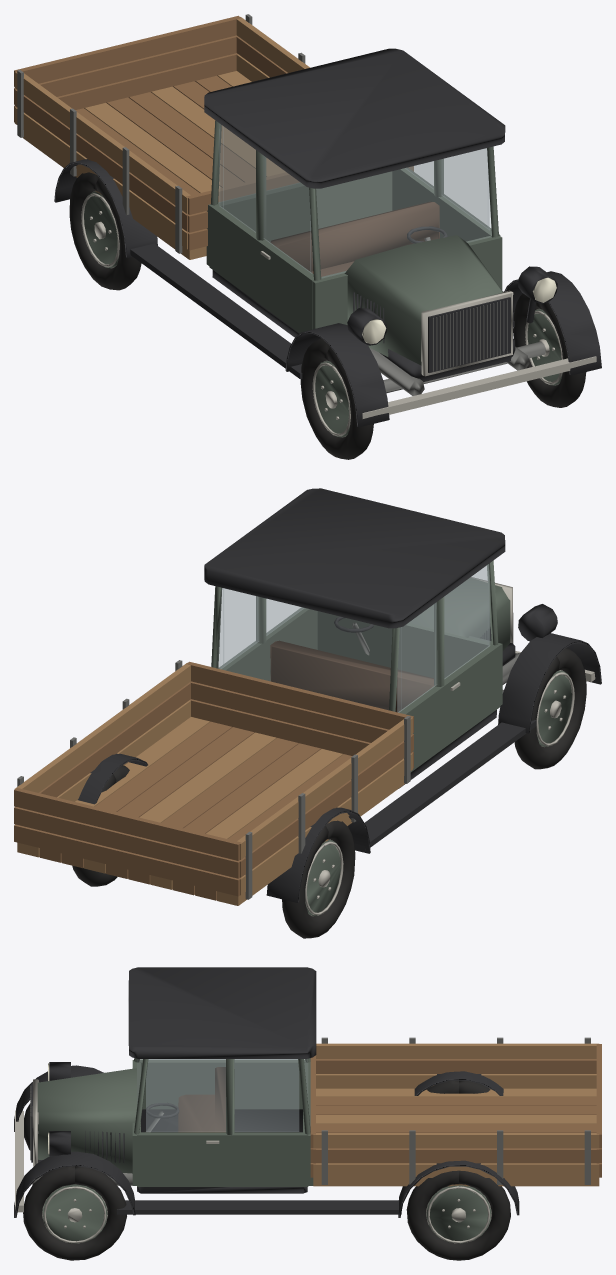
Rendered from pritschenwagen.glb.
3 renders of one model, top to bottom at view 1: azimuth 30°, elevation 25°; view 2: azimuth 150°, elevation 25°; view 3: azimuth 270°, elevation 25°, orthographic. The views are drawn at different scales.
Visible parts, largest first — view 1: Modell, Tuer_R, Tuer_L, Vorn_R, Hinten_R, Vorn_L; view 2: Modell, Tuer_R, Tuer_L, Hinten_R, Vorn_R, Hinten_L; view 3: Modell, Tuer_L, Vorn_L, Hinten_L, Tuer_R, Hinten_R.
Part boxes in pixels (x1,y1,x2,y2): Modell: (14, 14, 601, 427); Tuer_R: (218, 126, 312, 333); Tuer_L: (398, 148, 491, 241); Vorn_R: (300, 338, 373, 459); Hinten_R: (69, 172, 141, 290); Vorn_L: (513, 293, 586, 407); Modell: (14, 488, 601, 905); Tuer_R: (399, 564, 493, 772); Tuer_L: (219, 588, 313, 681); Hinten_R: (282, 820, 355, 938); Vorn_R: (514, 648, 586, 769); Hinten_L: (72, 765, 129, 886); Modell: (14, 967, 601, 1217); Tuer_L: (148, 1059, 292, 1186); Vorn_L: (23, 1166, 126, 1260); Hinten_L: (406, 1170, 510, 1260); Tuer_R: (148, 1059, 292, 1109); Hinten_R: (426, 1080, 490, 1093).
Bounding box in the file's own units: 1.81 × 1.79 × 4.56.
